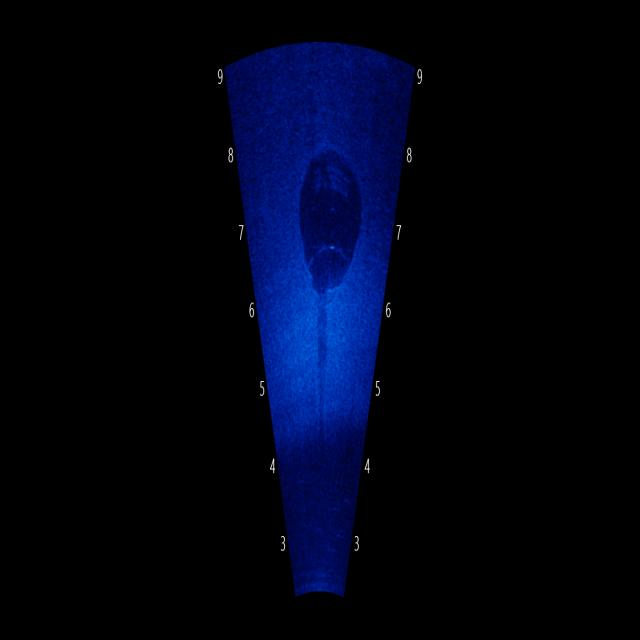circle: (292, 135, 374, 298)
